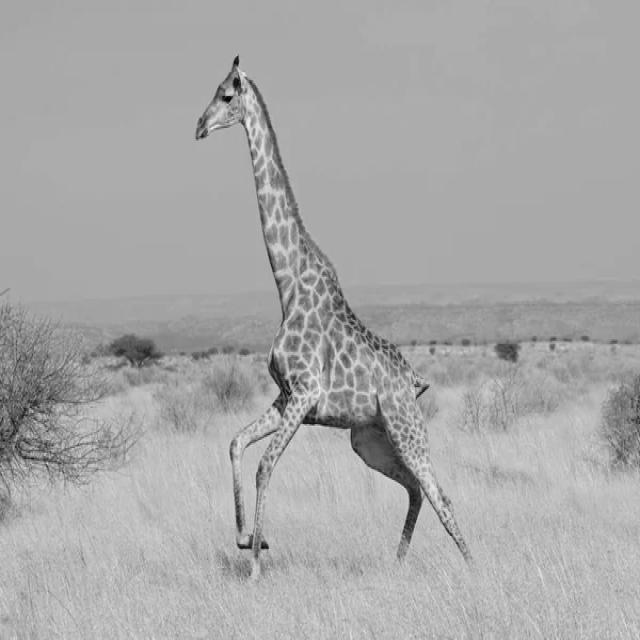Animal: (187, 54, 480, 579)
